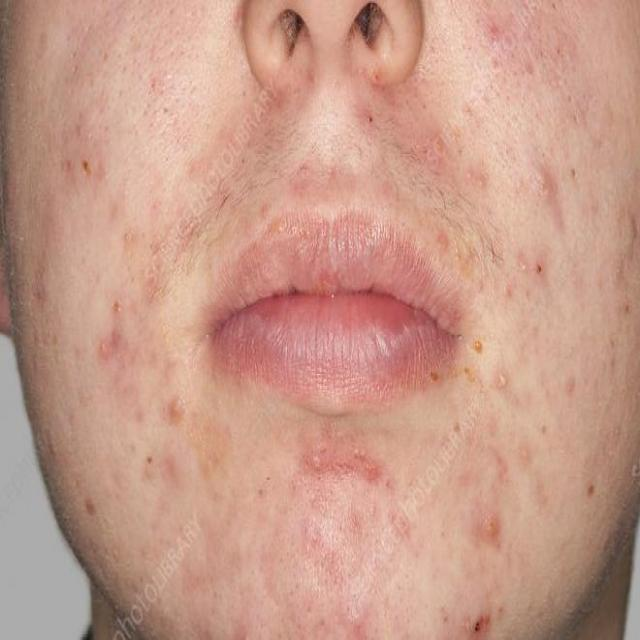blackheads: (96, 317, 125, 362), (472, 504, 502, 546), (531, 164, 555, 210), (167, 393, 187, 419), (484, 13, 498, 45), (82, 495, 99, 519), (563, 368, 576, 396), (82, 154, 94, 179), (585, 480, 597, 505), (309, 453, 322, 473), (496, 369, 505, 396), (532, 258, 543, 280), (112, 294, 123, 316), (569, 162, 578, 182), (145, 449, 154, 468)
